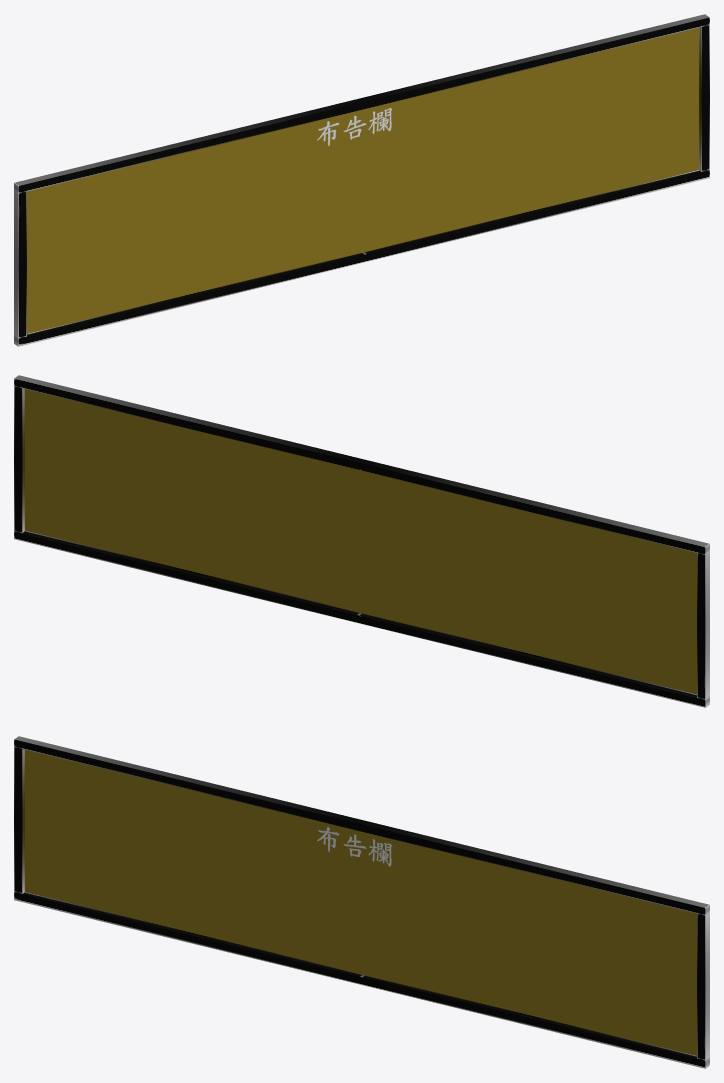
File: 布告欄504500100.fbx
The picture shows the model from 3 angles, top to bottom: view 1: azimuth 30°, elevation 25°; view 2: azimuth 150°, elevation 25°; view 3: azimuth 330°, elevation 25°; orthographic projection.
Visible parts, largest first — view 1: 布告欄5.450.100; view 2: 布告欄5.450.100; view 3: 布告欄5.450.100.
Boxes of the visible parts, box(x1,y1,x2,y2) form: 布告欄5.450.100: box(14, 14, 709, 346); 布告欄5.450.100: box(14, 375, 709, 707); 布告欄5.450.100: box(14, 736, 709, 1068).
Size of the model in its own units: 177 by 39.37 by 1.97.
1 material, 1 textured.
